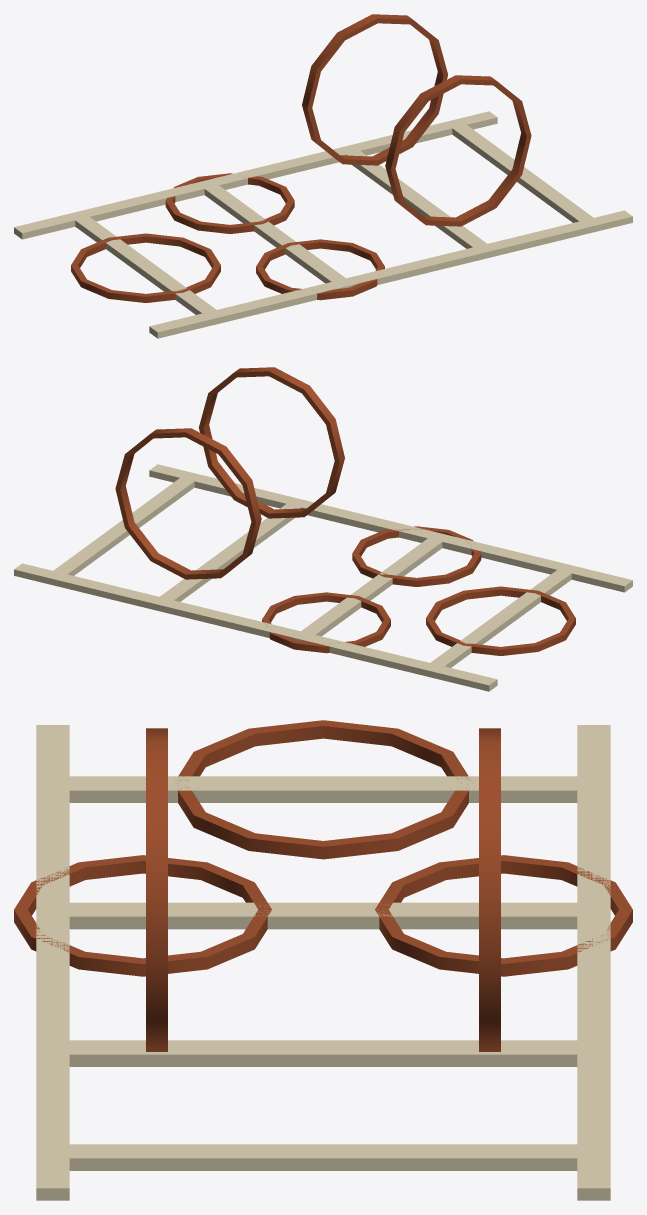
The model's file is u500_cradle.obj.
The picture shows the model from 3 angles, top to bottom: view 1: azimuth 30°, elevation 25°; view 2: azimuth 150°, elevation 25°; view 3: azimuth 270°, elevation 25°; orthographic projection. The views are drawn at different scales.
Visible parts, largest first — view 1: u500_cradle; view 2: u500_cradle; view 3: u500_cradle.
Part boxes in pixels (bbox=[...]): u500_cradle: bbox=[14, 14, 632, 338]; u500_cradle: bbox=[14, 367, 632, 691]; u500_cradle: bbox=[14, 720, 632, 1200].
Size of the model in its own units: 7.98 by 2.52 by 4.46.
